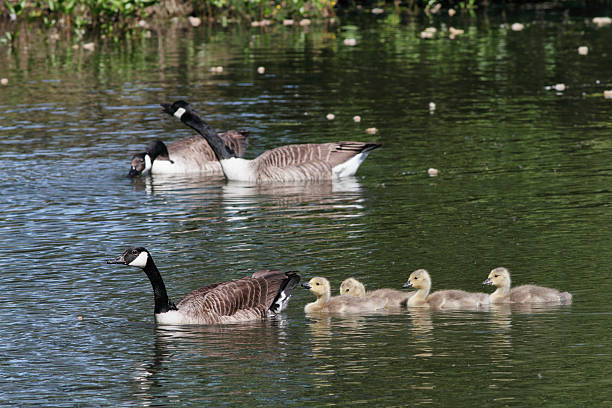goose: (156, 99, 384, 185), (103, 245, 303, 329), (127, 128, 251, 183)
